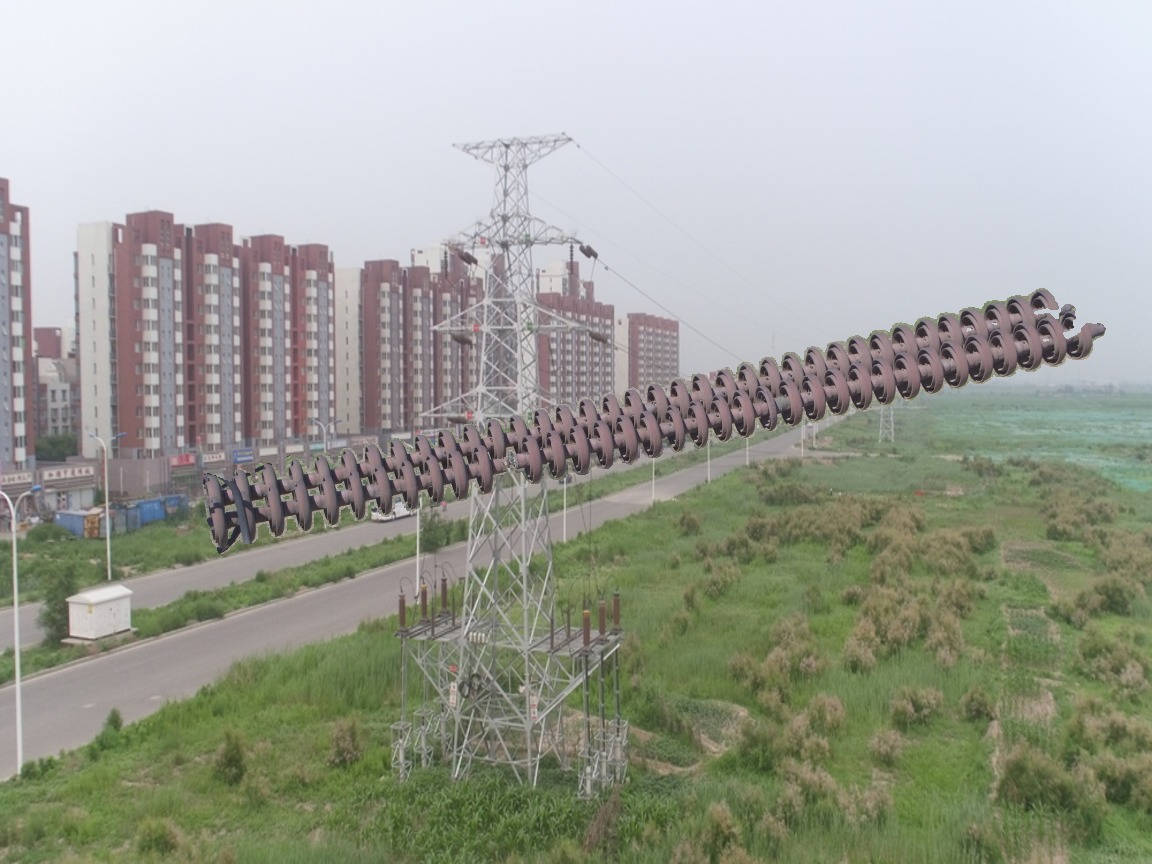defect: (468, 433, 551, 494)
